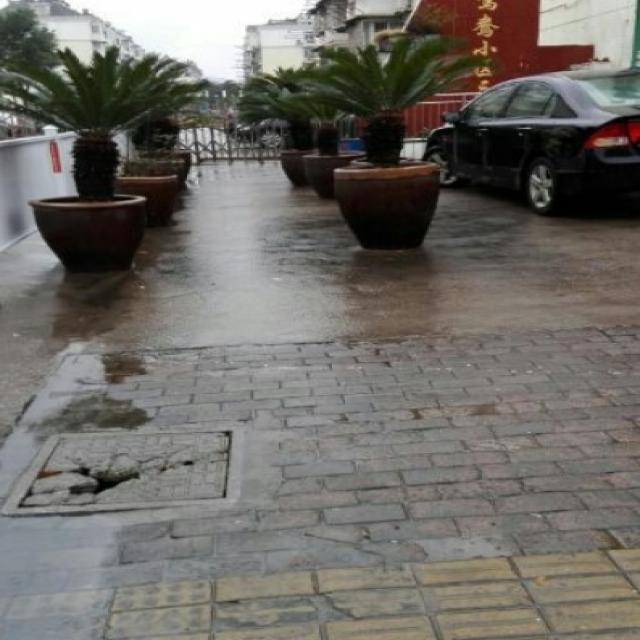Broken: (8, 416, 258, 519)
